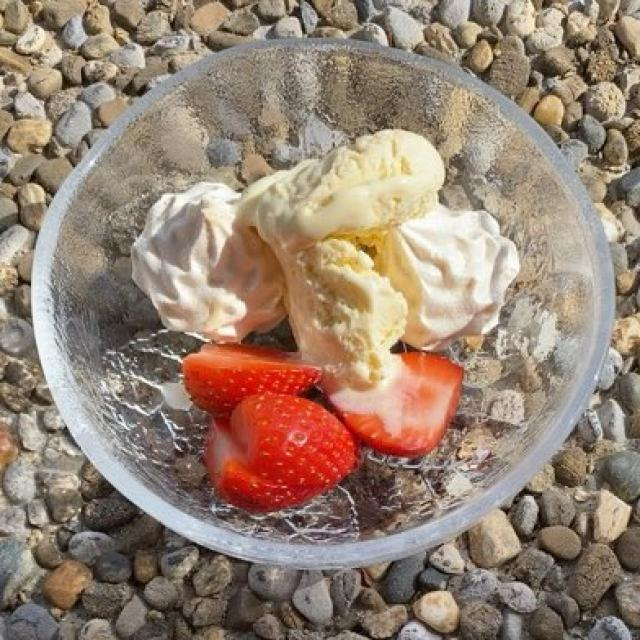dairy-ice-cream: (268, 128, 458, 399)
strawberries: (194, 347, 457, 517)
